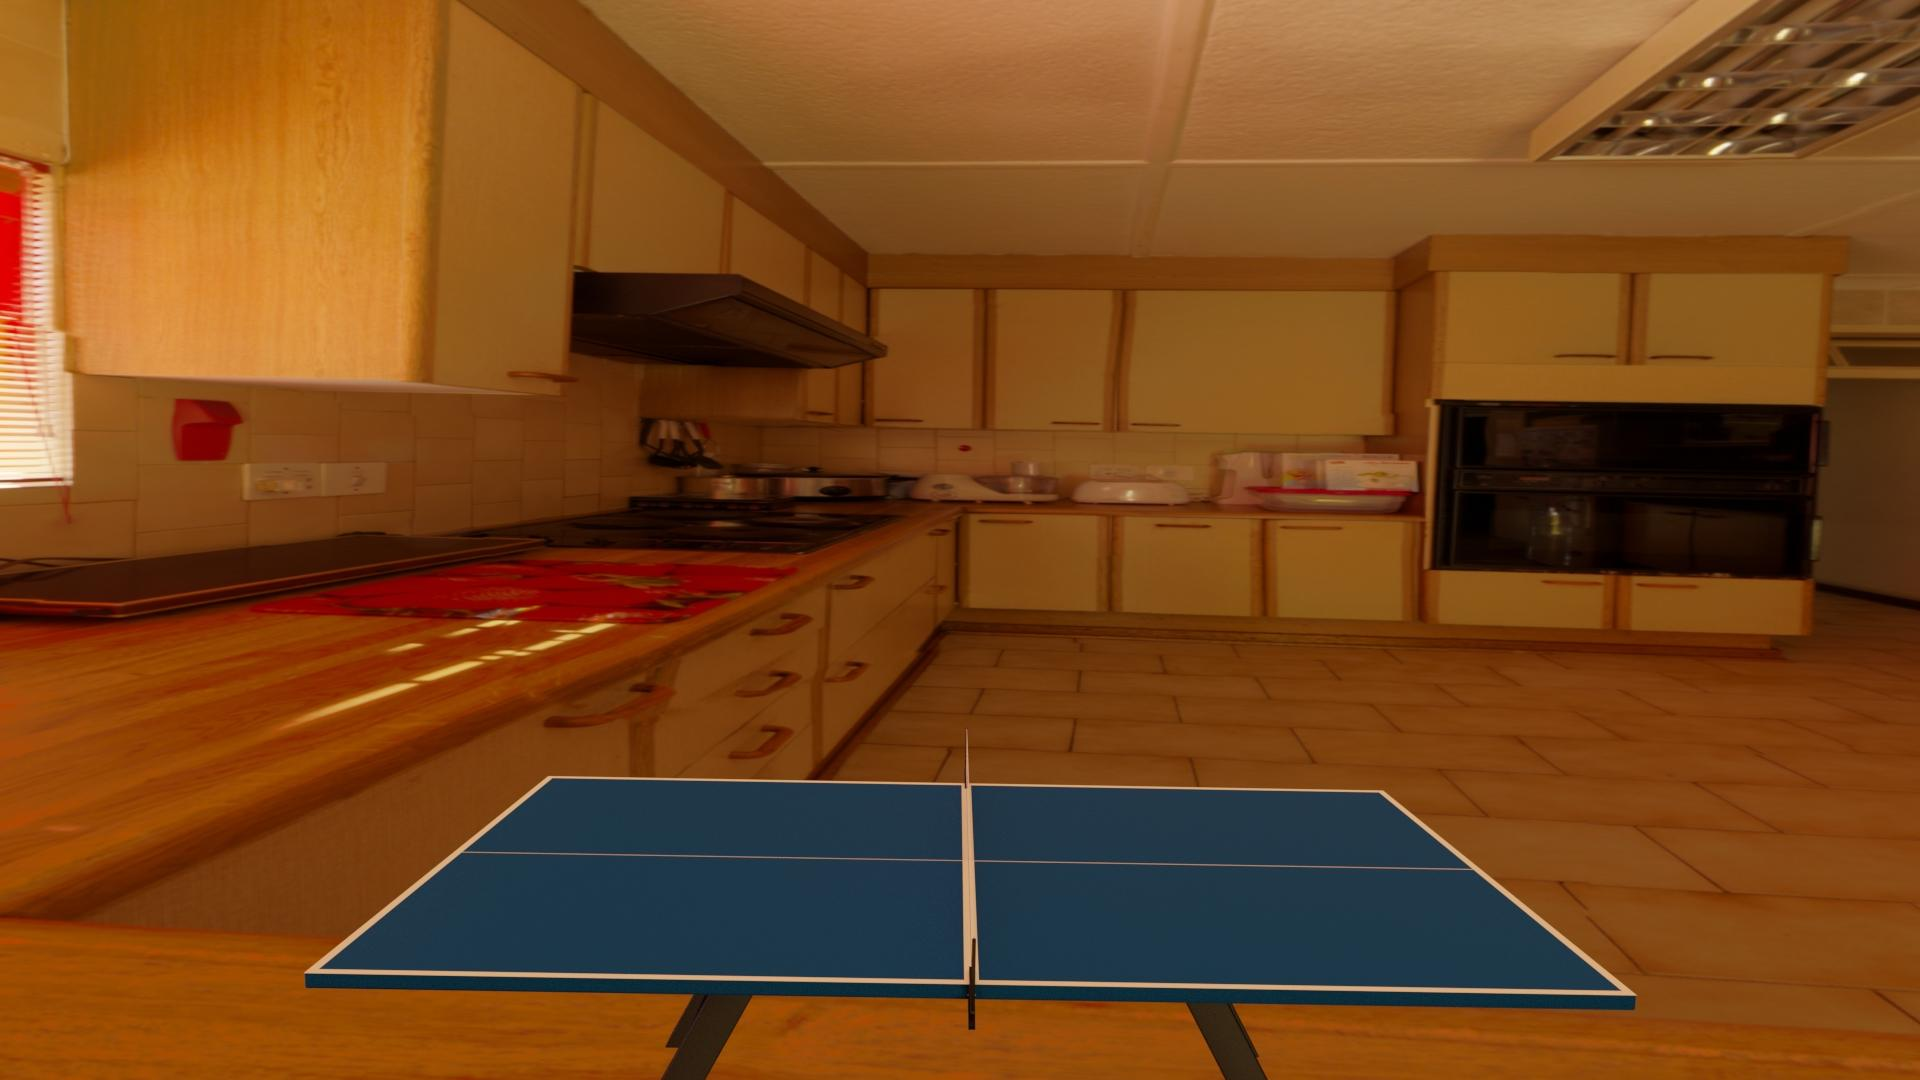table: (319, 778, 1622, 992)
